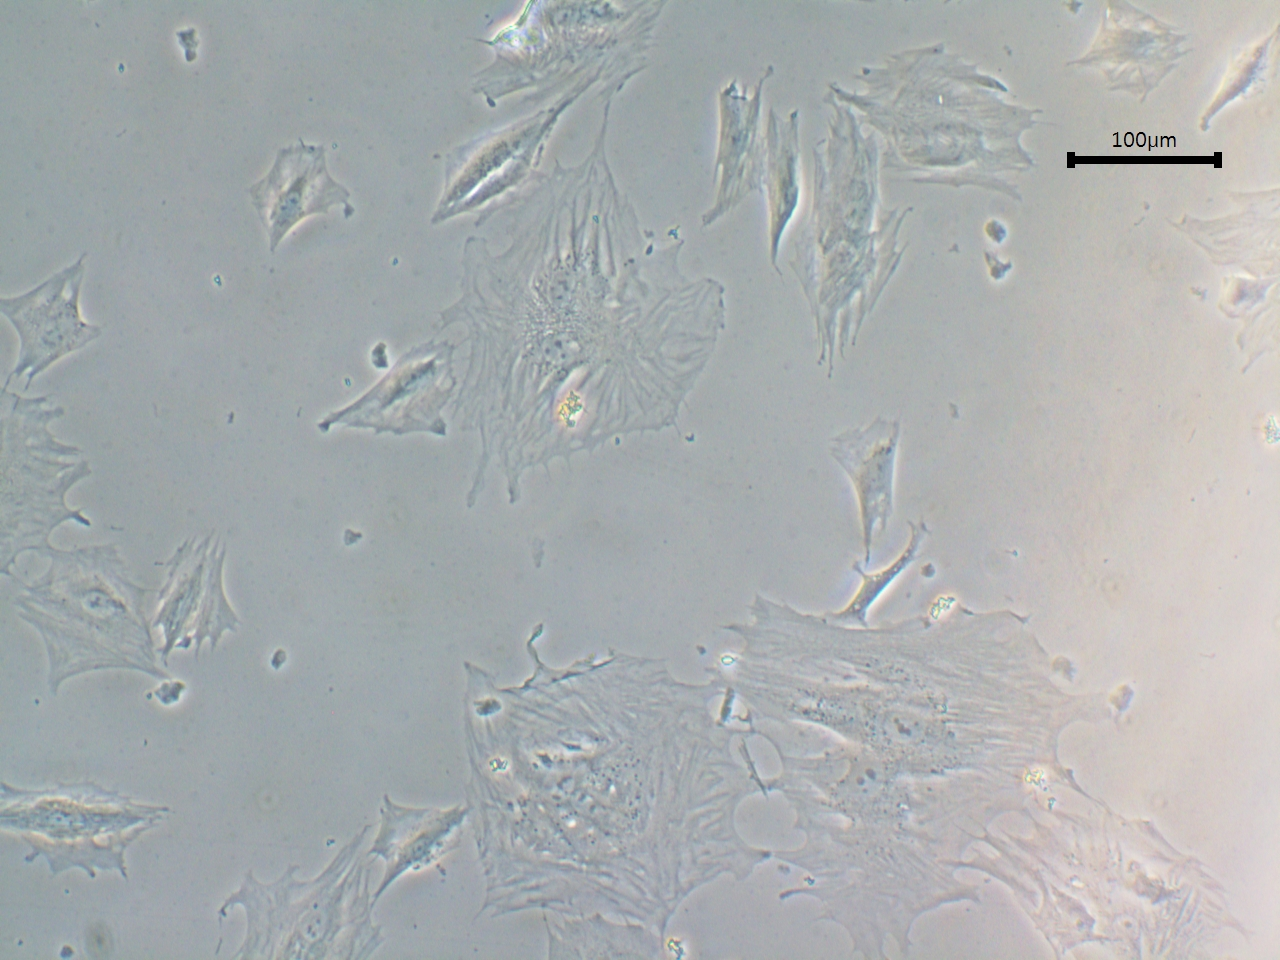dividing: (465, 646, 728, 915), (227, 114, 355, 262)
large-spread: (725, 600, 1029, 960)
medium-polygonal: (425, 100, 565, 219), (694, 73, 763, 226), (369, 794, 464, 899), (765, 108, 807, 273)
medium-spread: (855, 39, 1039, 205), (1, 766, 182, 895), (16, 533, 150, 704), (2, 240, 113, 402), (324, 340, 457, 469), (155, 539, 245, 663), (829, 406, 911, 541)
small-spread: (1065, 4, 1191, 109)
